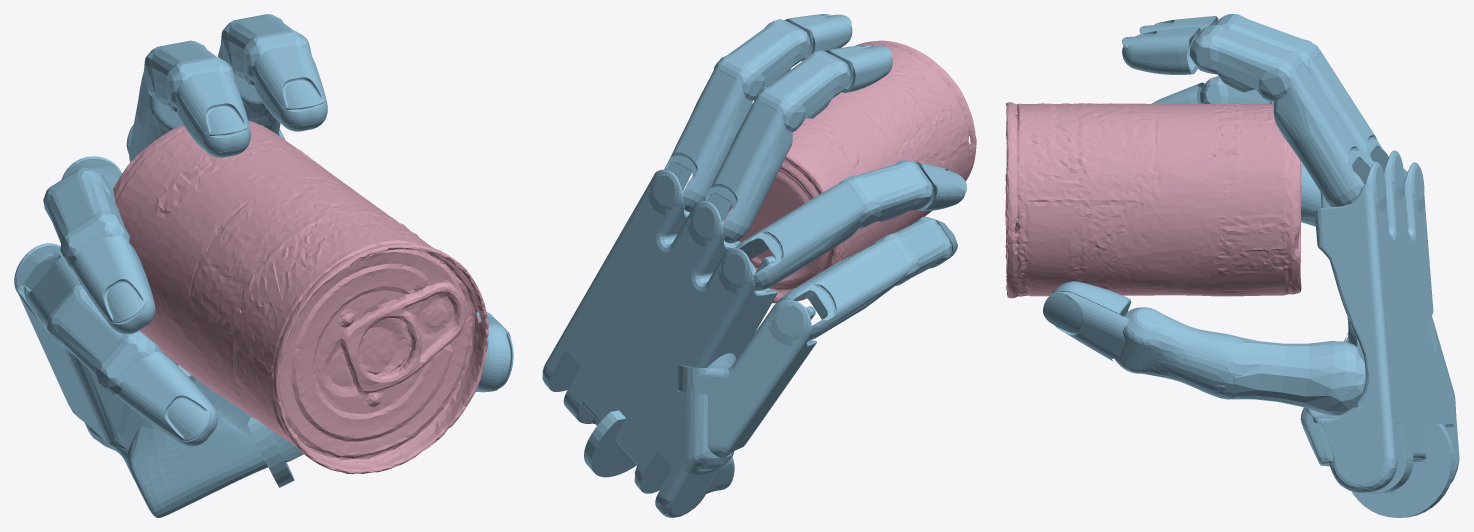
The picture shows the model from 3 angles, left to right: view 1: azimuth 30°, elevation 25°; view 2: azimuth 150°, elevation 25°; view 3: azimuth 270°, elevation 25°; orthographic projection. The views are drawn at different scales.
Parts seen in each view (by area): view 1: tomato_soup_can.stl, world; view 2: world, tomato_soup_can.stl; view 3: world, tomato_soup_can.stl.
Part boxes in pixels (left/top/right/bottom): tomato_soup_can.stl: left=113, top=120, right=488, bottom=474; world: left=14, top=14, right=513, bottom=517; world: left=542, top=14, right=966, bottom=517; tomato_soup_can.stl: left=724, top=40, right=976, bottom=303; world: left=1043, top=14, right=1459, bottom=517; tomato_soup_can.stl: left=1005, top=102, right=1301, bottom=298.
Bounding box in the file's own units: 0.136 × 0.1738 × 0.1562.
